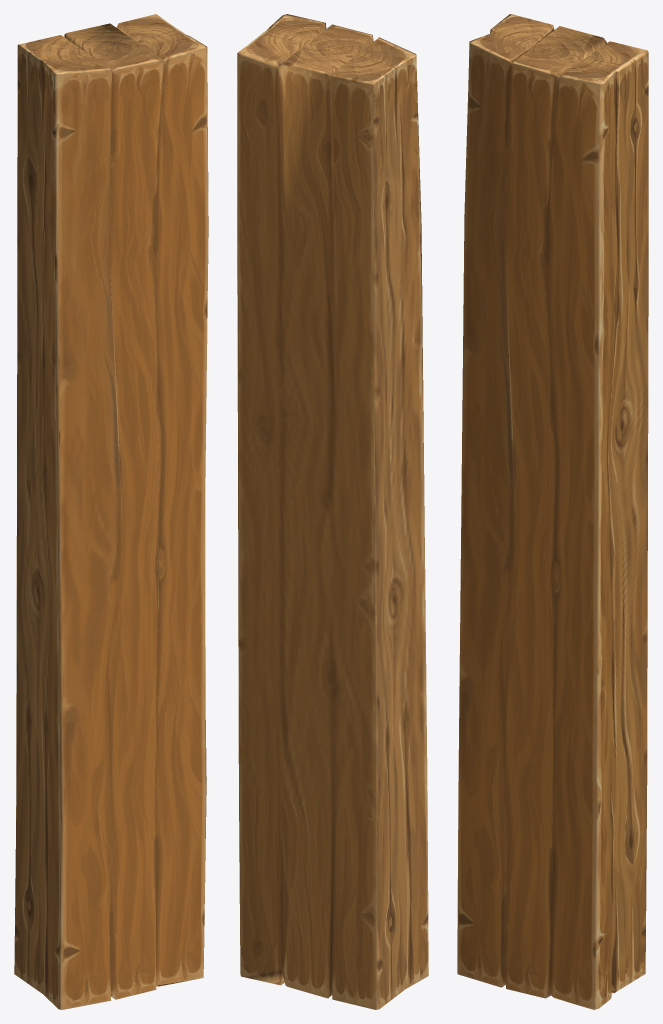
The model's file is beam-hewn.glb.
3 views of the same model, side by side, from view 1: azimuth 30°, elevation 25°; view 2: azimuth 150°, elevation 25°; view 3: azimuth 330°, elevation 25° (orthographic).
Parts seen in each view (by area): view 1: Existing Meshy board axis alignment; view 2: Existing Meshy board axis alignment; view 3: Existing Meshy board axis alignment.
Part boxes in pixels (x1,y1,x2,y2): Existing Meshy board axis alignment: [14, 14, 208, 1009]; Existing Meshy board axis alignment: [237, 14, 428, 1009]; Existing Meshy board axis alignment: [457, 14, 648, 1009].
Size of the model in its own units: 0.1667 by 1 by 0.1038.
Materials: 1 (1 with a texture image).
